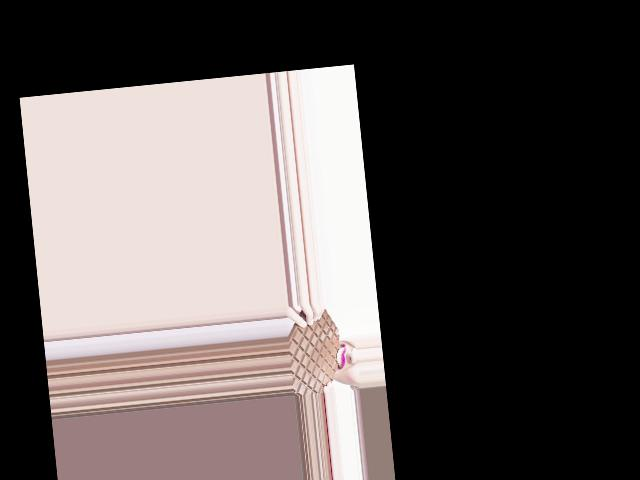chocolate: (284, 301, 346, 395)
